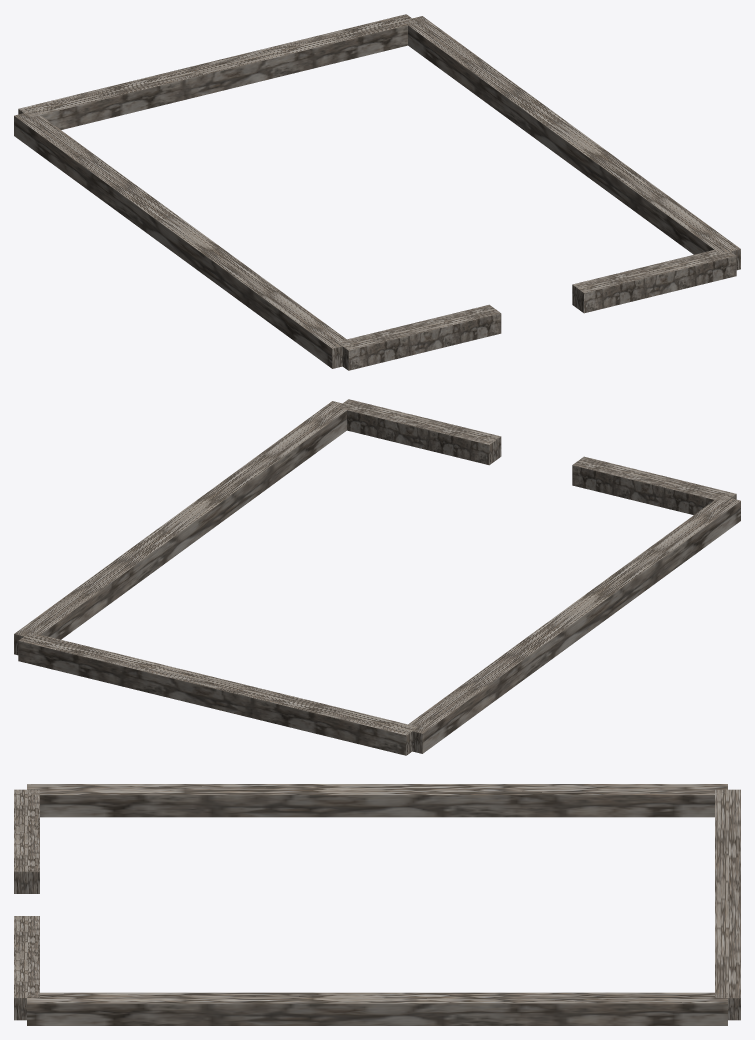
Rendered from BW_Chapel01_Foundation.fbx.
The picture shows the model from 3 angles, top to bottom: view 1: azimuth 30°, elevation 25°; view 2: azimuth 150°, elevation 25°; view 3: azimuth 270°, elevation 25°; orthographic projection. The views are drawn at different scales.
Parts seen in each view (by area): view 1: BW_Chapel01_Foundation; view 2: BW_Chapel01_Foundation; view 3: BW_Chapel01_Foundation.
Boxes of the visible parts, box(x1,y1,x2,y2) form: BW_Chapel01_Foundation: box(14, 14, 740, 370); BW_Chapel01_Foundation: box(14, 399, 740, 755); BW_Chapel01_Foundation: box(14, 784, 740, 1025).
Size of the model in its own units: 8 by 0.38 by 11.2.
